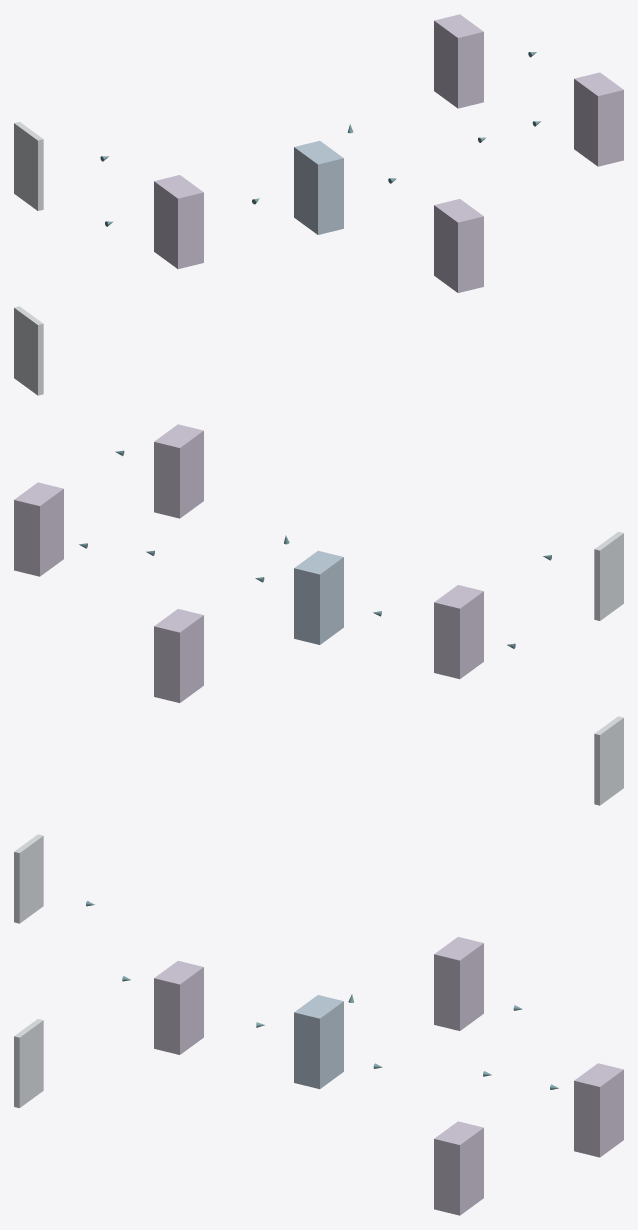
File: feature-refinement.glb
The picture shows the model from 3 angles, top to bottom: view 1: azimuth 30°, elevation 25°; view 2: azimuth 150°, elevation 25°; view 3: azimuth 330°, elevation 25°; orthographic projection.
Visible parts, largest first — view 1: Sum + projection · + shortcut + act, Channel gate, Post-conv, Spatial gate, Upsample + · weighted fusion, Encoder skip, Decoder features; view 2: Sum + projection · + shortcut + act, Channel gate, Post-conv, Spatial gate, Upsample + · weighted fusion, Encoder skip, Decoder features; view 3: Sum + projection · + shortcut + act, Spatial gate, Post-conv, Channel gate, Upsample + · weighted fusion, Decoder features, Encoder skip.
Part boxes in pixels (<box>): Sum + projection · + shortcut + act: <box>574,72,623,166</box>; Channel gate: <box>434,14,483,108</box>; Post-conv: <box>294,140,343,234</box>; Spatial gate: <box>434,199,483,292</box>; Upsample + · weighted fusion: <box>154,175,203,268</box>; Encoder skip: <box>14,306,43,395</box>; Decoder features: <box>14,121,43,210</box>; Sum + projection · + shortcut + act: <box>14,482,63,576</box>; Channel gate: <box>154,424,203,518</box>; Post-conv: <box>294,550,343,644</box>; Spatial gate: <box>154,609,203,702</box>; Upsample + · weighted fusion: <box>434,585,483,678</box>; Encoder skip: <box>594,716,623,805</box>; Decoder features: <box>594,531,623,620</box>; Sum + projection · + shortcut + act: <box>574,1063,623,1157</box>; Spatial gate: <box>434,1121,483,1215</box>; Post-conv: <box>294,995,343,1089</box>; Channel gate: <box>434,937,483,1030</box>; Upsample + · weighted fusion: <box>154,961,203,1054</box>; Decoder features: <box>14,834,43,923</box>; Encoder skip: <box>14,1019,43,1108</box>.
Size of the model in its own units: 22.6 by 9.4 by 1.6.
